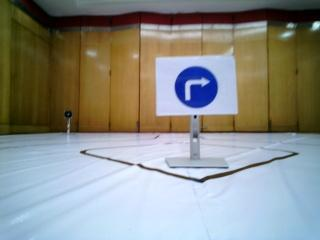right: (157, 60, 226, 115)
